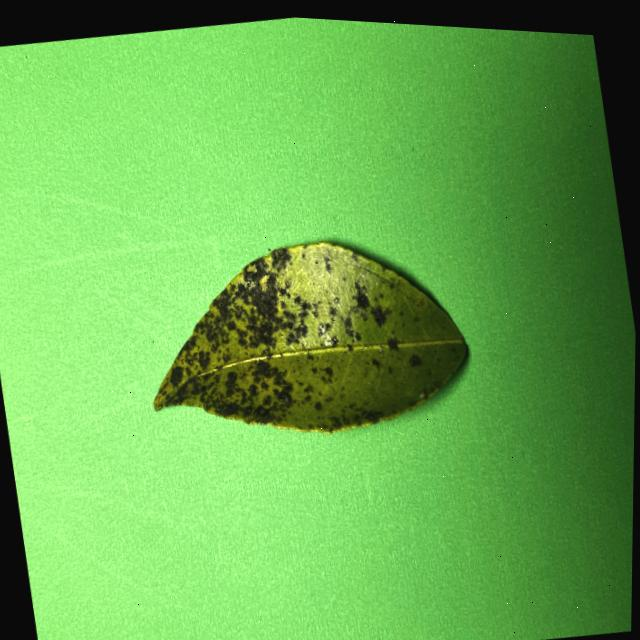sooty_mold: (154, 243, 466, 433)
